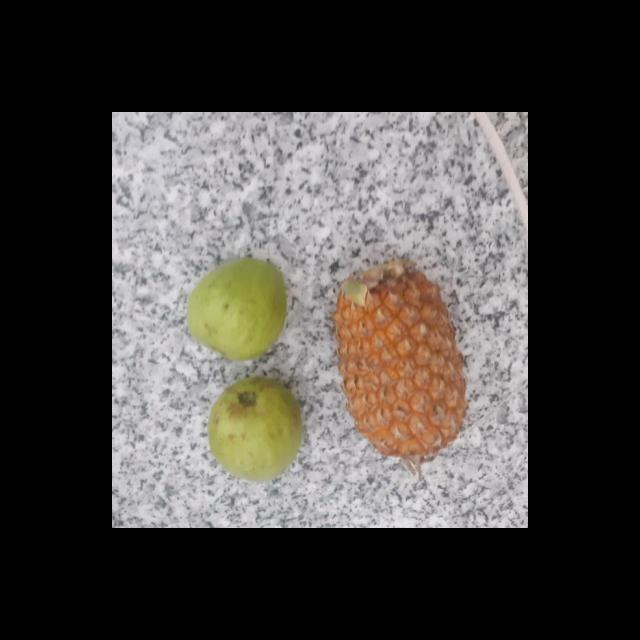guava: (182, 260, 288, 358), (202, 380, 302, 480)
pineapple: (332, 261, 465, 465)
